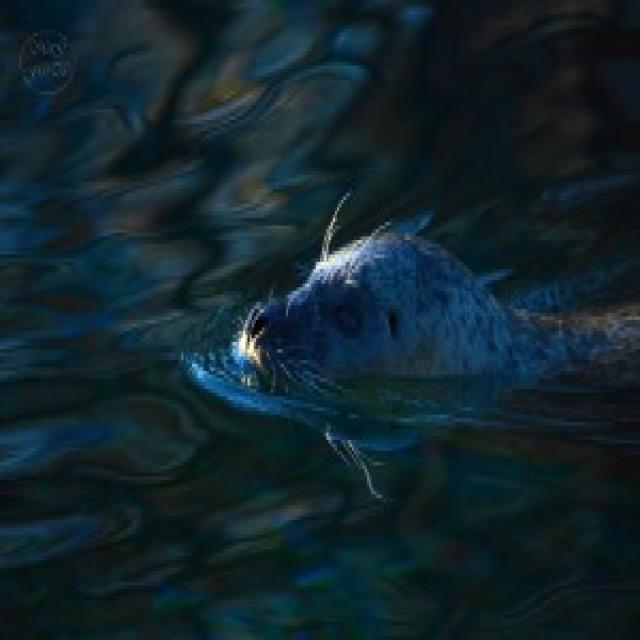Seal: (214, 190, 639, 444)
